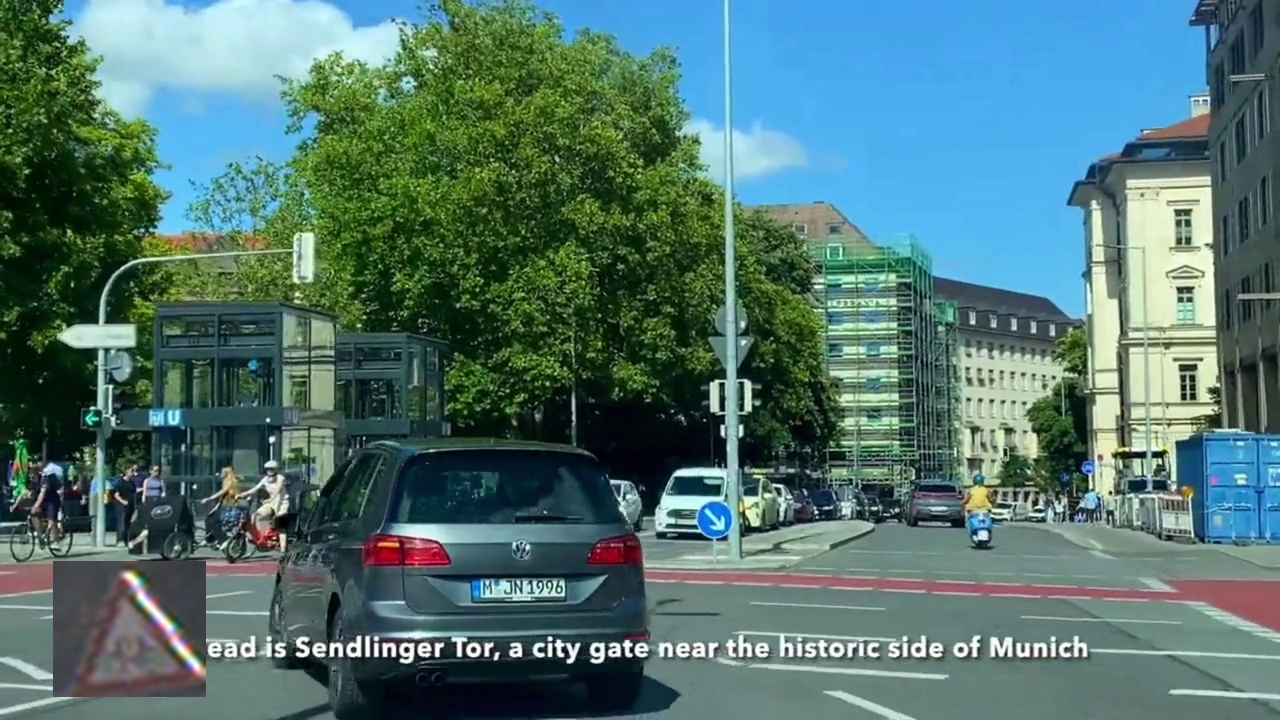Bicycles: (53, 561, 206, 697)
